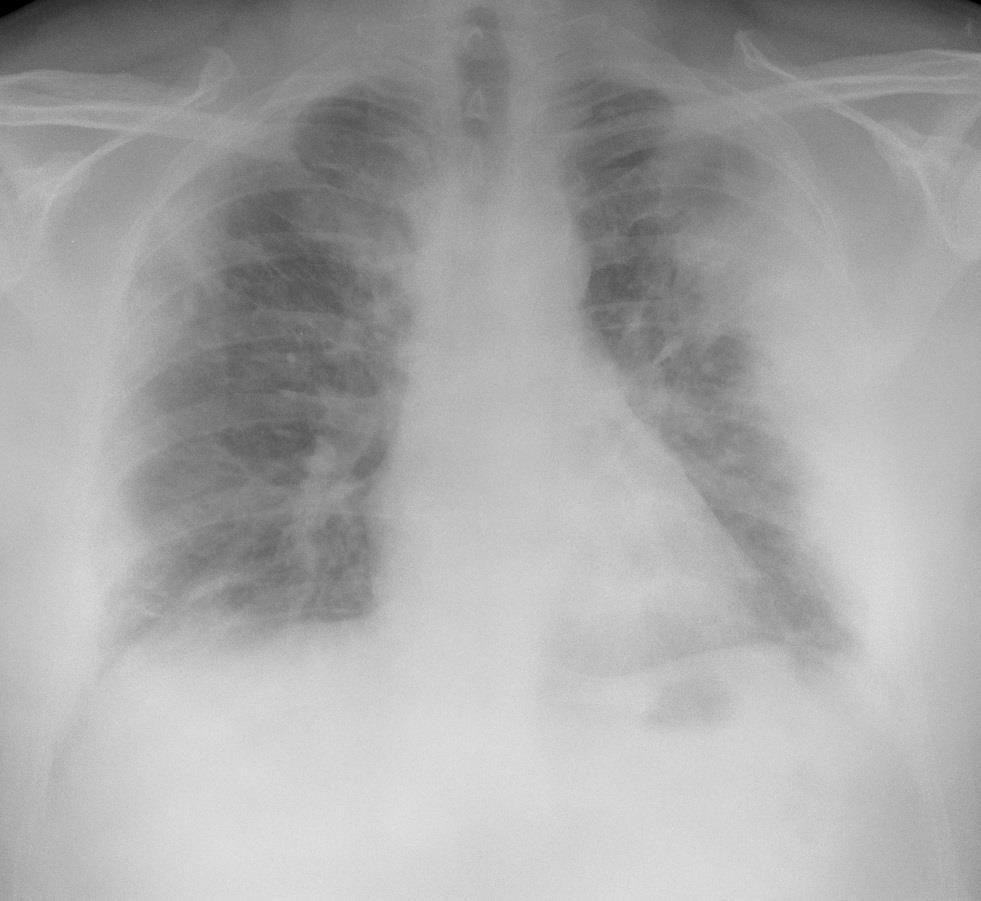Severe: (110, 74, 447, 651), (550, 75, 850, 659)
